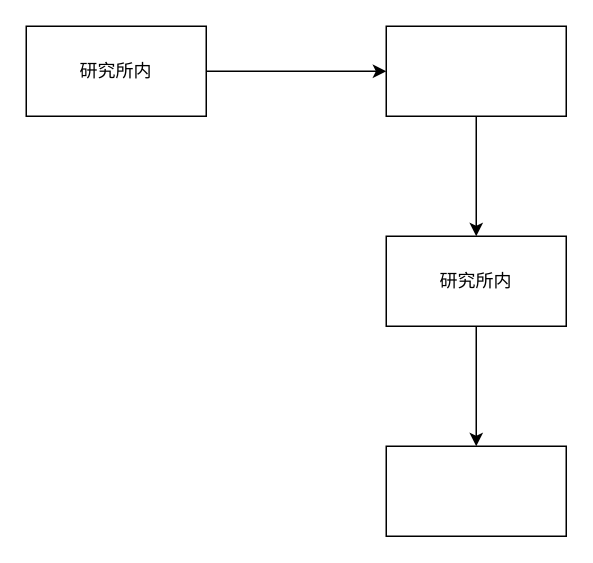
Some shapes in this 593 by 563 pixel diagram are drawn without their labels. Each missing label, with the centre of its shape:
"地下实验室" belongs at (475,70).
"运输站" belongs at (475,490).
